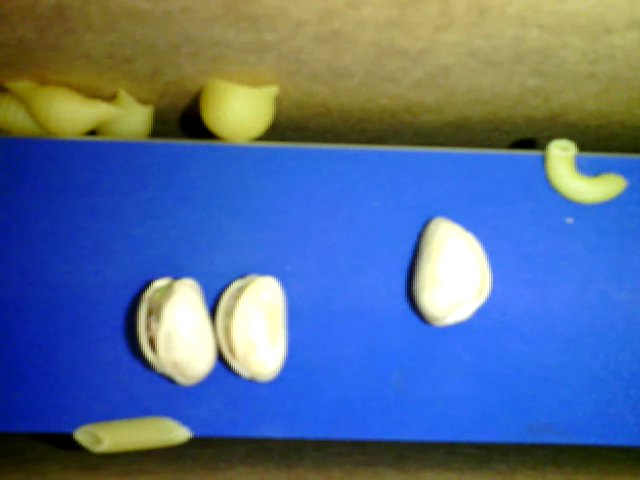elbow: (545, 134, 627, 202)
penne: (73, 413, 195, 455)
shell: (1, 73, 129, 139), (197, 75, 278, 142), (98, 90, 154, 139), (1, 92, 57, 139)
